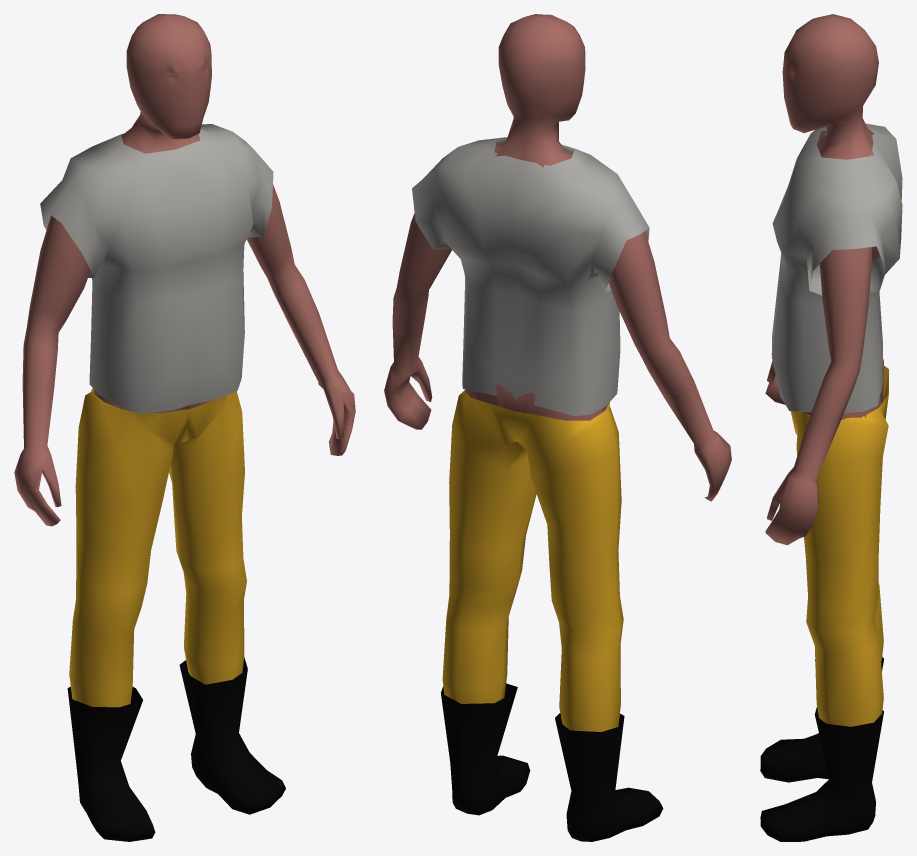
The model's file is ExportedBlenderFBXFile.fbx.
3 views of the same model, side by side, from view 1: azimuth 30°, elevation 25°; view 2: azimuth 150°, elevation 25°; view 3: azimuth 270°, elevation 25° (orthographic).
Parts seen in each view (by area): view 1: Shirt, Pants, Character, Boots; view 2: Pants, Shirt, Character, Boots; view 3: Shirt, Character, Pants, Boots.
Boxes of the visible parts, box(x1,y1,x2,y2) form: Shirt: box(40, 124, 273, 414); Pants: box(69, 388, 246, 707); Character: box(14, 14, 355, 526); Boots: box(67, 657, 285, 841); Pants: box(442, 389, 623, 731); Shirt: box(412, 137, 649, 415); Character: box(384, 14, 731, 501); Boots: box(441, 683, 663, 841); Shirt: box(771, 123, 902, 412); Character: box(765, 14, 883, 545); Pants: box(791, 365, 888, 726); Boots: box(760, 657, 883, 841).
Bounding box in the file's own units: 7.18 × 16.4 × 2.68.
